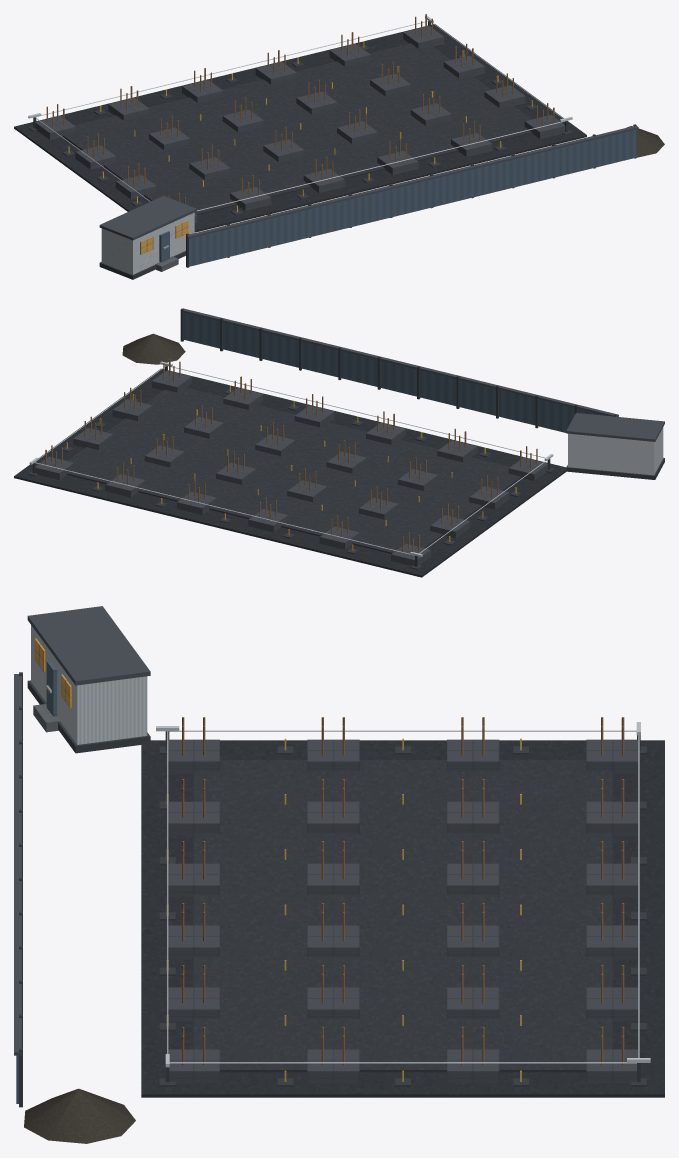
Rendered from trg-7-site.glb.
The picture shows the model from 3 angles, top to bottom: view 1: azimuth 30°, elevation 25°; view 2: azimuth 150°, elevation 25°; view 3: azimuth 270°, elevation 25°; orthographic projection. The views are drawn at different scales.
Size of the model in its own units: 42.08 by 3.1 by 24.87.
Materials: 17 (9 with a texture image).
